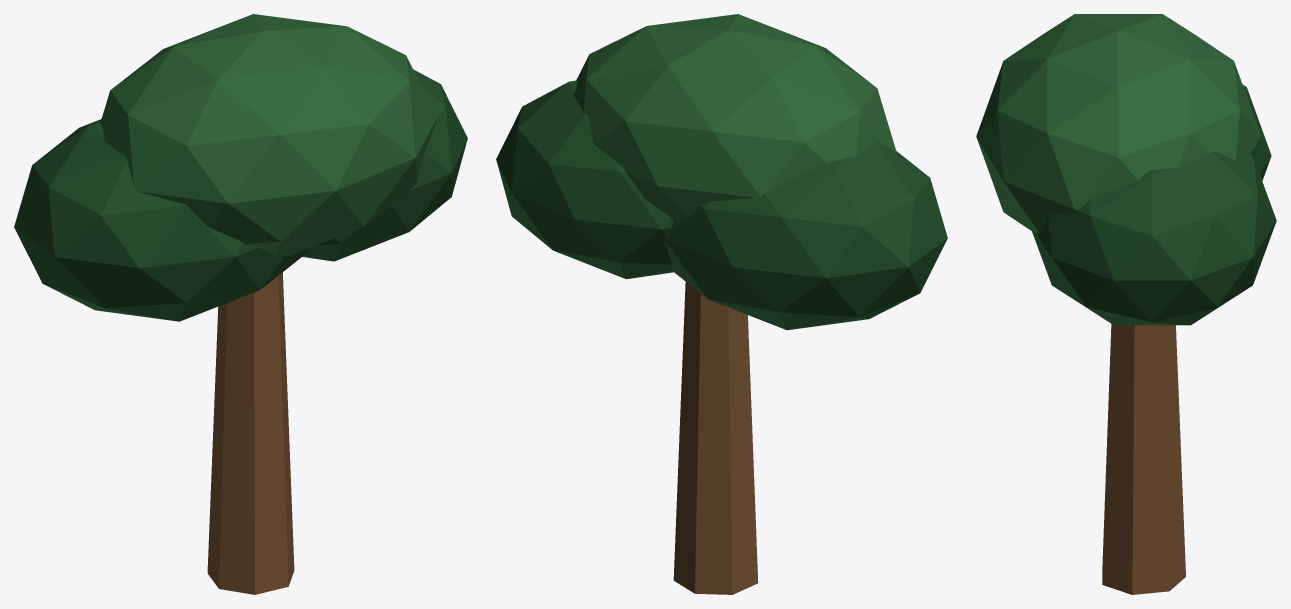
File: summer_tree.glb
3 views of the same model, side by side, from view 1: azimuth 30°, elevation 25°; view 2: azimuth 150°, elevation 25°; view 3: azimuth 270°, elevation 25° (orthographic). The views are drawn at different scales.
Visible parts, largest first — view 1: SummerTree; view 2: SummerTree; view 3: SummerTree.
Part boxes in pixels (left/top/right/bottom): SummerTree: left=14, top=14, right=467, bottom=594; SummerTree: left=496, top=14, right=947, bottom=594; SummerTree: left=976, top=14, right=1276, bottom=594.
Size of the model in its own units: 3.68 by 4.65 by 2.32.
